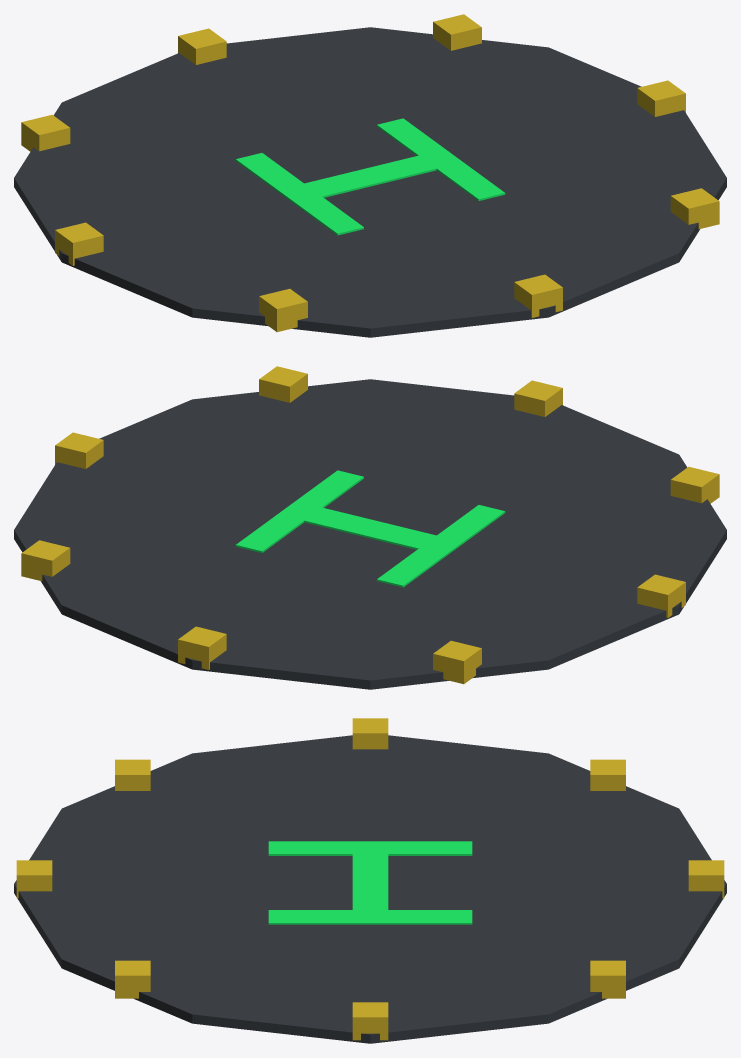
The model's file is extraction_pad.obj.
3 renders of one model, top to bottom at view 1: azimuth 30°, elevation 25°; view 2: azimuth 150°, elevation 25°; view 3: azimuth 270°, elevation 25°, orthographic.
Size of the model in its own units: 7 by 0.275 by 7.
